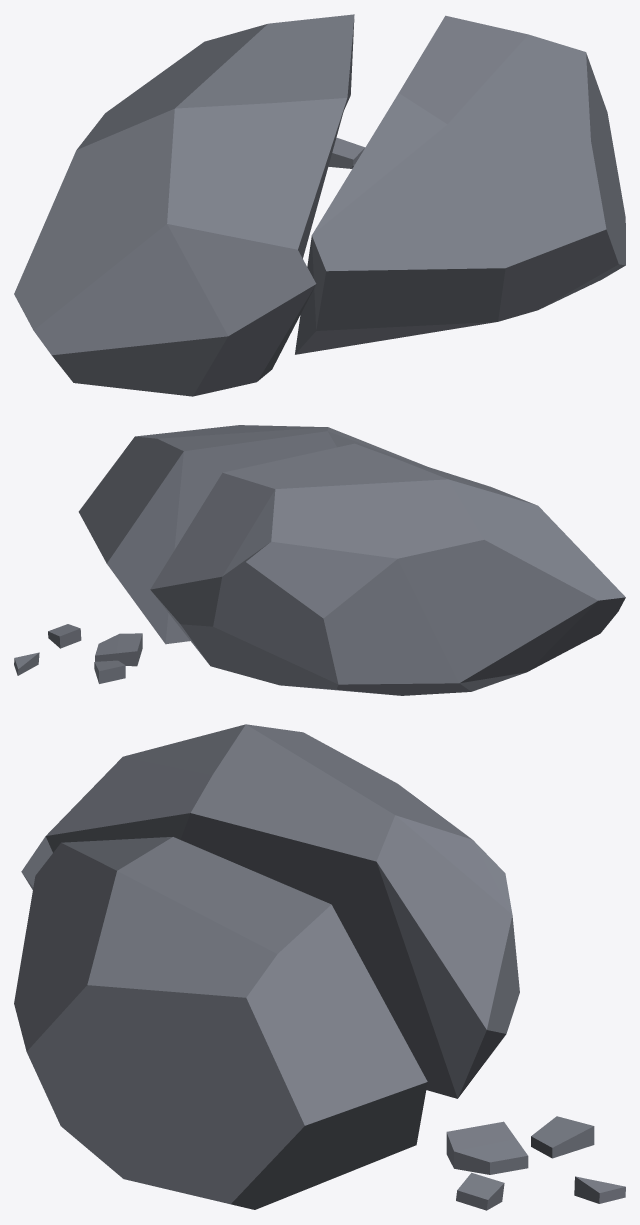
File: Rock_Round_crk_m_03.fbx
The picture shows the model from 3 angles, top to bottom: view 1: azimuth 30°, elevation 25°; view 2: azimuth 150°, elevation 25°; view 3: azimuth 270°, elevation 25°; orthographic projection. The views are drawn at different scales.
Parts seen in each view (by area): view 1: Rock_Round_crk_m_03; view 2: Rock_Round_crk_m_03; view 3: Rock_Round_crk_m_03.
Boxes of the visible parts, bbox=[...] form: Rock_Round_crk_m_03: bbox=[14, 14, 625, 396]; Rock_Round_crk_m_03: bbox=[14, 425, 625, 695]; Rock_Round_crk_m_03: bbox=[14, 724, 625, 1210].
Size of the model in its own units: 161 by 56.41 by 118.
